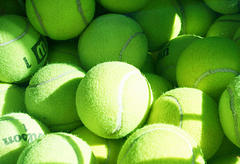tennis ball: (73, 61, 154, 139), (146, 87, 224, 161), (22, 62, 94, 134), (78, 15, 149, 80), (176, 36, 240, 106), (116, 123, 209, 164), (1, 12, 46, 83), (159, 34, 215, 90), (122, 1, 181, 52), (163, 1, 221, 46), (25, 1, 95, 38)
